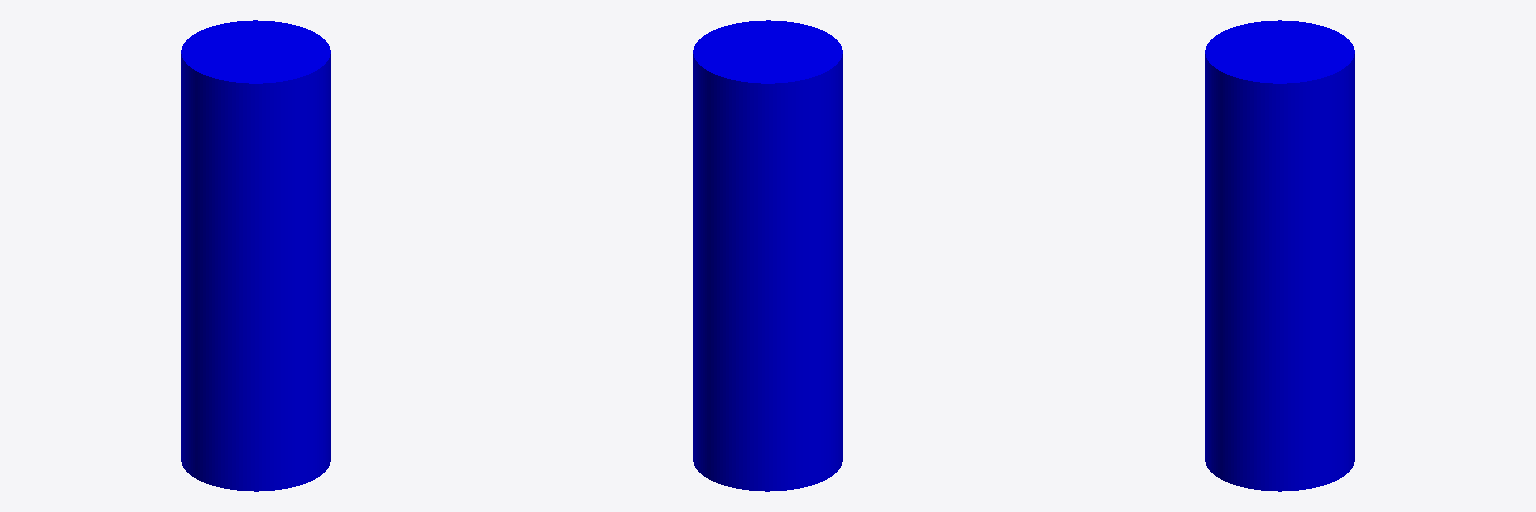
robot.urdf — board1_block12:
<?xml version="1.0"?>
<robot name="board1_block12">
    <link name="board1_block12">
        <visual>
            <origin xyz="0 0 0 " rpy=" 0 0 0"/>
            <geometry>
                <mesh filename="../meshes/SIMO_Board1_Block12.stl" scale="0.001 0.001 0.001"/>
            </geometry>
            <material name="red">
                <color rgba="0.0 0.0 1.0 1.0"/>
            </material>
        </visual>
        <collision>
            <origin xyz="0 0 0" rpy="0 0 0"/>
            <geometry>
                <mesh filename="../meshes/SIMO_Board1_Block12.stl" scale="0.001 0.001 0.001"/>
            </geometry>
        </collision>
    </link>
</robot>

--- What the picture shows (computed from the rendered views, not written in the file) ---
3 views of the same robot in one strip: view 1: azimuth 30°, elevation 25°; view 2: azimuth 150°, elevation 25°; view 3: azimuth 270°, elevation 25° (orthographic).
Robot: board1_block12 — 1 links, 0 joints (none); root link board1_block12; default pose: every joint at zero.
Visible links, largest first — view 1: board1_block12; view 2: board1_block12; view 3: board1_block12.
Boxes of the visible links, x1,y1,x2,y2 form: board1_block12: (181, 20, 330, 491); board1_block12: (693, 20, 842, 491); board1_block12: (1205, 20, 1354, 491).
Size in the robot's own frame: 0.0498 by 0.0498 by 0.15 metres.
1 mesh visuals loaded from 1 distinct referenced files (1 ASCII STL).
